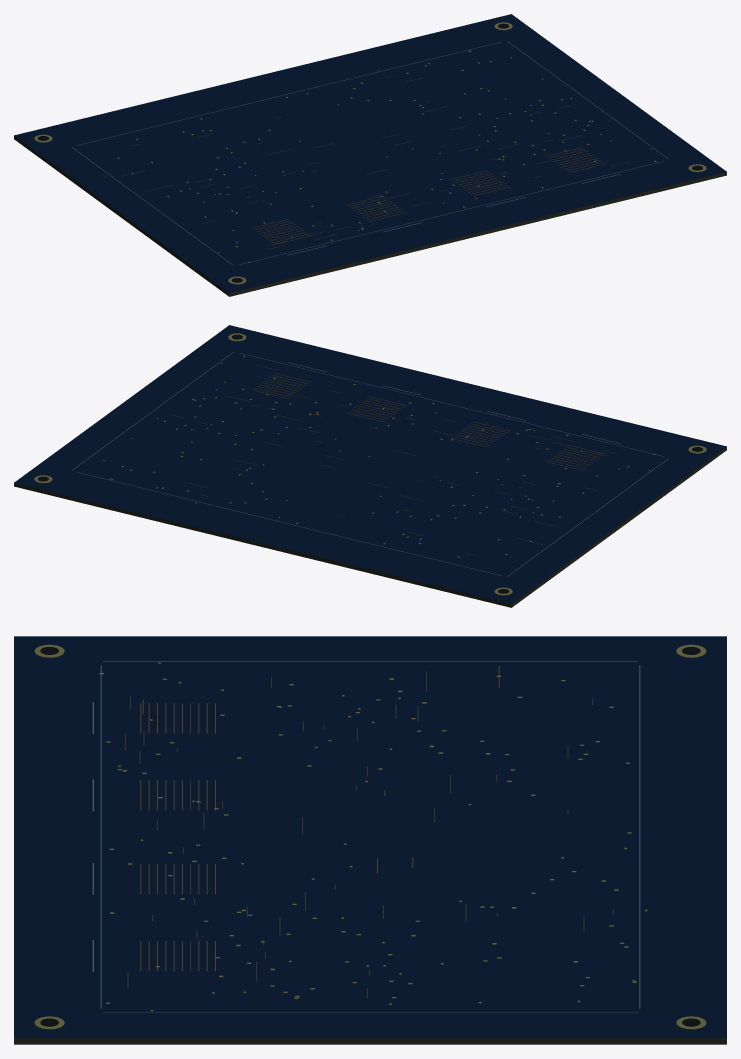
Rendered from 089_L103_PCB_Main.fbx.
3 renders of one model, top to bottom at view 1: azimuth 30°, elevation 25°; view 2: azimuth 150°, elevation 25°; view 3: azimuth 270°, elevation 25°, orthographic. The views are drawn at different scales.
Visible parts, largest first — view 1: 089_L103_PCB_Main; view 2: 089_L103_PCB_Main; view 3: 089_L103_PCB_Main.
Part boxes in pixels (box(x1,y1,x2,y2)): 089_L103_PCB_Main: box(14, 14, 726, 296); 089_L103_PCB_Main: box(14, 325, 726, 607); 089_L103_PCB_Main: box(14, 636, 726, 1044).
Size of the model in its own units: 24 by 0.1965 by 18.
